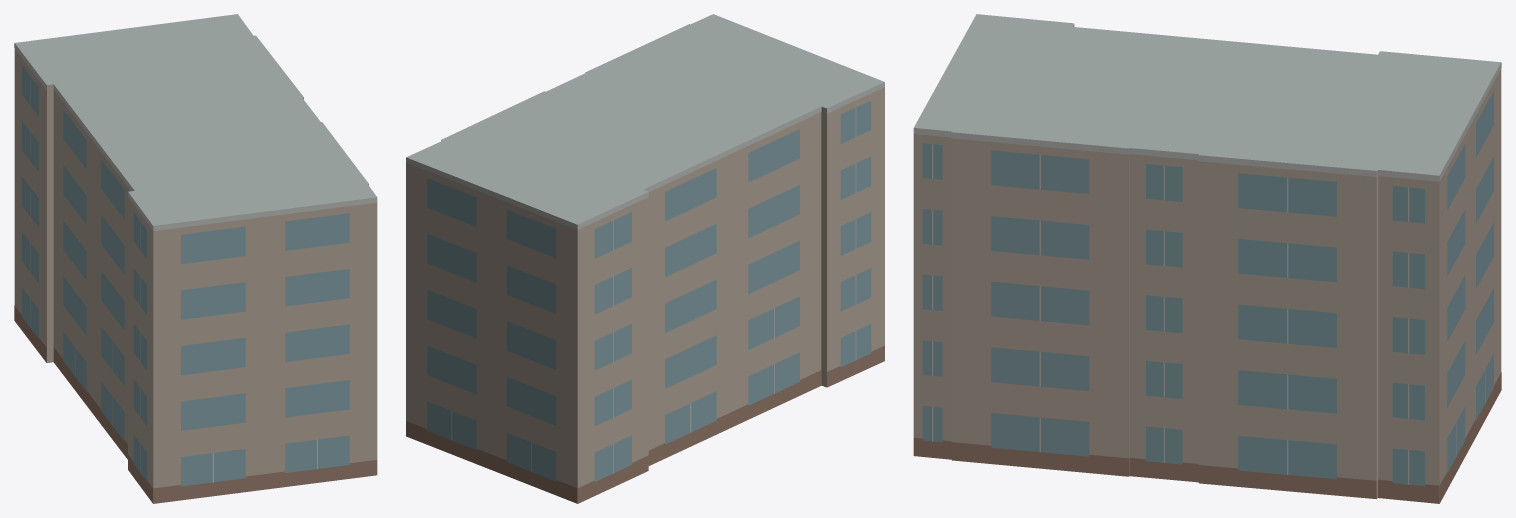
The model's file is survey-upis-32670162.glb.
The picture shows the model from 3 angles, left to right: view 1: azimuth 30°, elevation 25°; view 2: azimuth 150°, elevation 25°; view 3: azimuth 270°, elevation 25°; orthographic projection. The views are drawn at different scales.
Visible parts, largest first — view 1: survey-upis-32670162.tmp; view 2: survey-upis-32670162.tmp; view 3: survey-upis-32670162.tmp.
Boxes of the visible parts, box(x1,y1,x2,y2) form: survey-upis-32670162.tmp: box(14, 14, 377, 503); survey-upis-32670162.tmp: box(406, 14, 884, 503); survey-upis-32670162.tmp: box(913, 14, 1501, 503).
Bounding box in the file's own units: 13.75 × 13 × 21.11.
